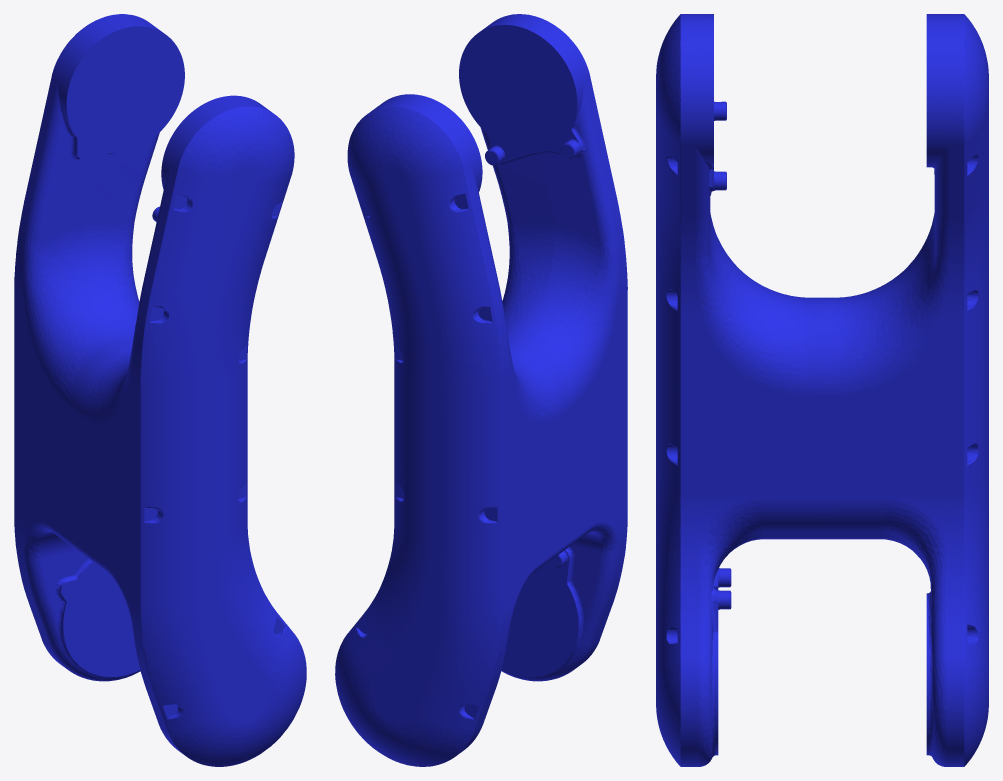
The picture shows the model from 3 angles, left to right: view 1: azimuth 30°, elevation 25°; view 2: azimuth 150°, elevation 25°; view 3: azimuth 270°, elevation 25°; orthographic projection. The views are drawn at different scales.
Parts seen in each view (by area): view 1: Link2; view 2: Link2; view 3: Link2.
Boxes of the visible parts, bbox=[...] form: Link2: bbox=[14, 14, 306, 766]; Link2: bbox=[335, 14, 627, 766]; Link2: bbox=[656, 14, 988, 766].
Bounding box in the file's own units: 0.149 × 0.23 × 0.562.
